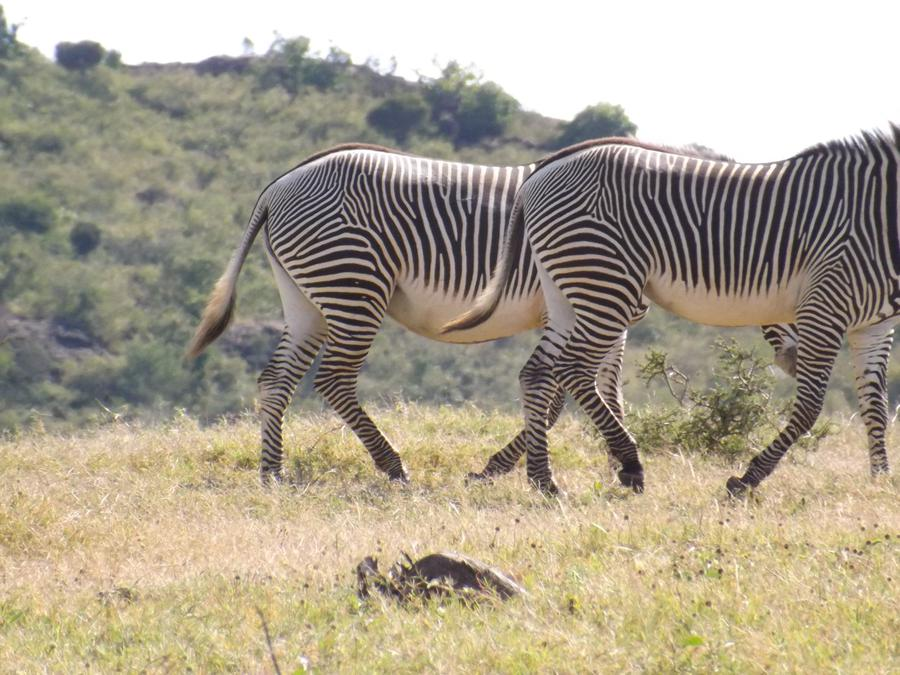zebra_grevys: (244, 142, 544, 303)
